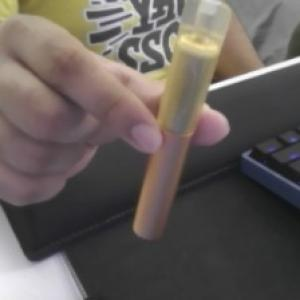Golden-E-Ciggirate: (131, 1, 234, 244)
